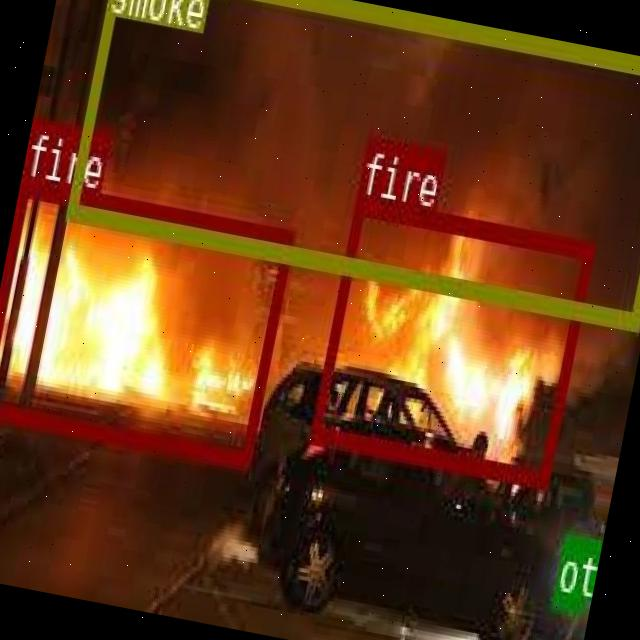fire: (0, 176, 295, 466), (308, 192, 594, 484)
smoke: (63, 0, 640, 328)
